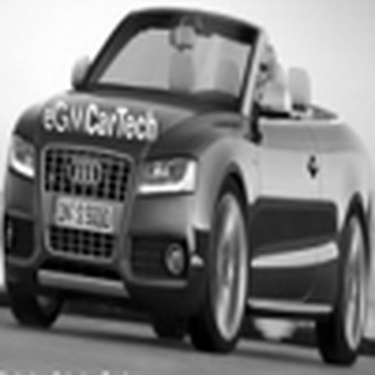car: (1, 2, 369, 358)
